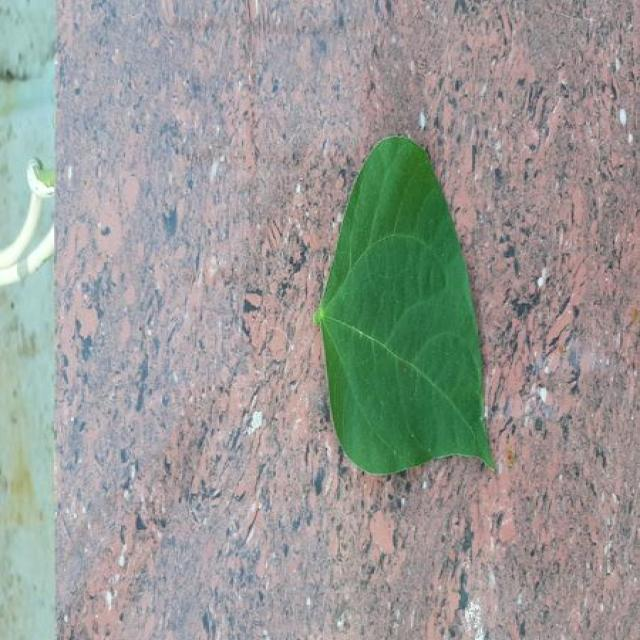beans: (313, 136, 493, 473)
